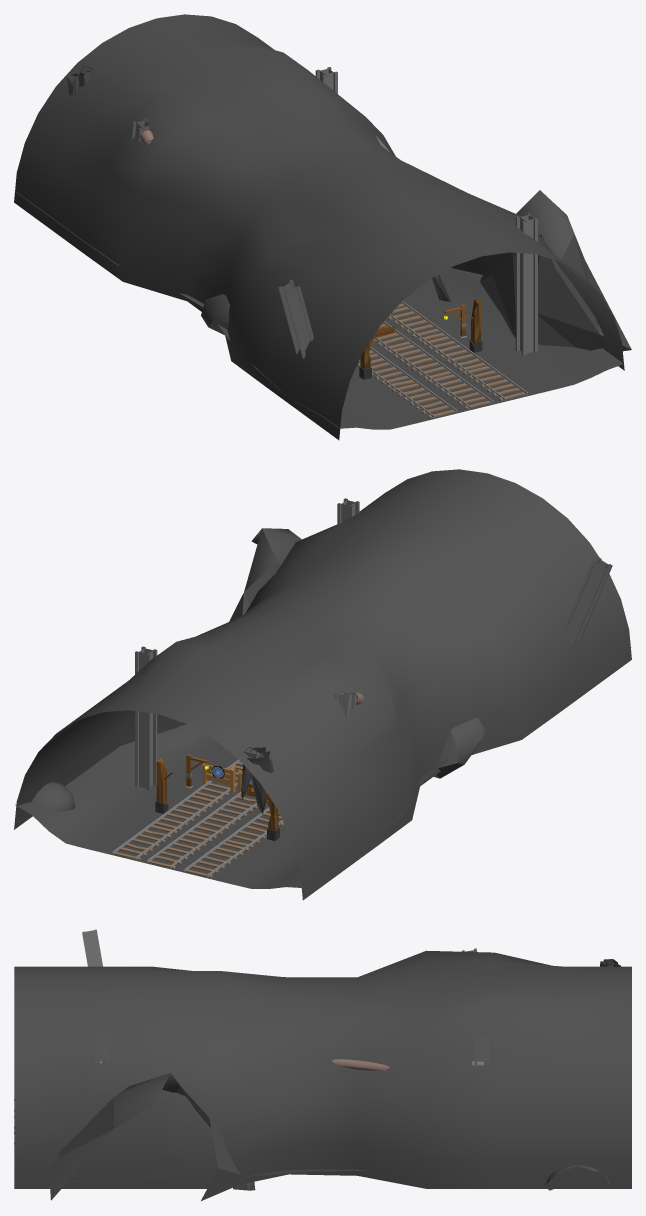
The model's file is Modulo V1 Obstaculos 2.fbx.
3 views of the same model, one above another, from view 1: azimuth 30°, elevation 25°; view 2: azimuth 150°, elevation 25°; view 3: azimuth 270°, elevation 25° (orthographic). The views are drawn at different scales.
Parts seen in each view (by area): view 1: Cube.013; view 2: Cube.013; view 3: Cube.013.
Boxes of the visible parts, <box> form: Cube.013: <box>14,14,631,440</box>; Cube.013: <box>14,469,631,900</box>; Cube.013: <box>14,929,631,1200</box>.
Size of the model in its own units: 2794 by 1467 by 4762.
